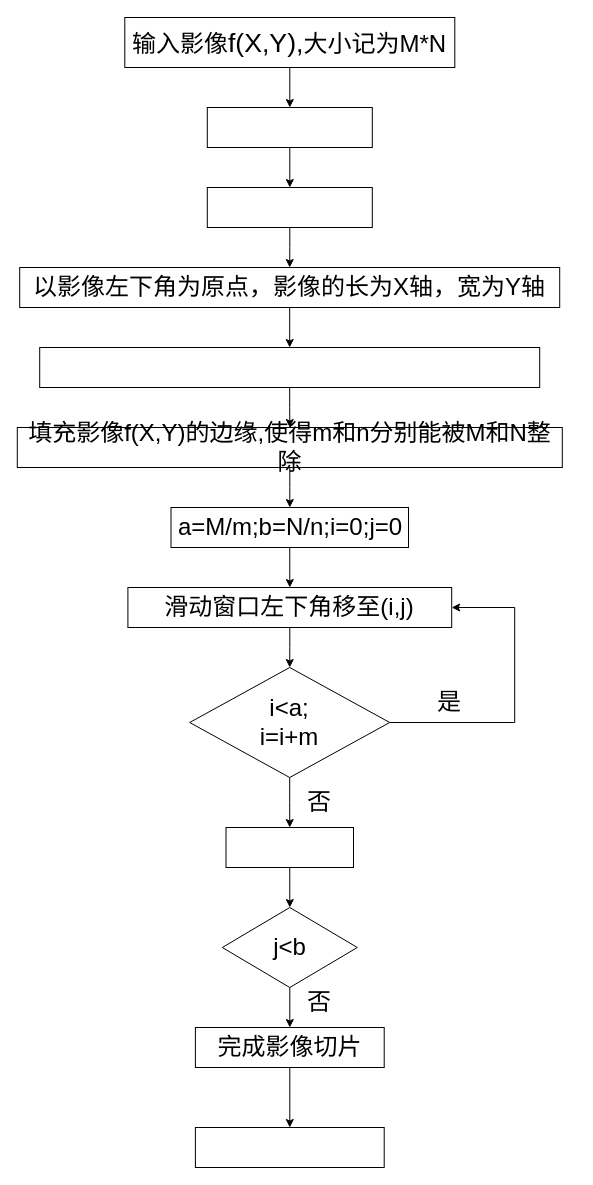
The diagram is 593 pixels wide and 1185 high, and some of its shapes have lost their labels. Here are the shapes that lost their labels. From the top down, the centre of each, then its label:
At point (289, 127): "影像预处理".
At point (289, 207): "格式转换".
At point (289, 367): "设置滑动窗口大小为 m*n, 记左下角坐标为 ( i,j )".
At point (289, 847): "i =0 ; j= j+n".
At point (289, 1147): "样本标记".
